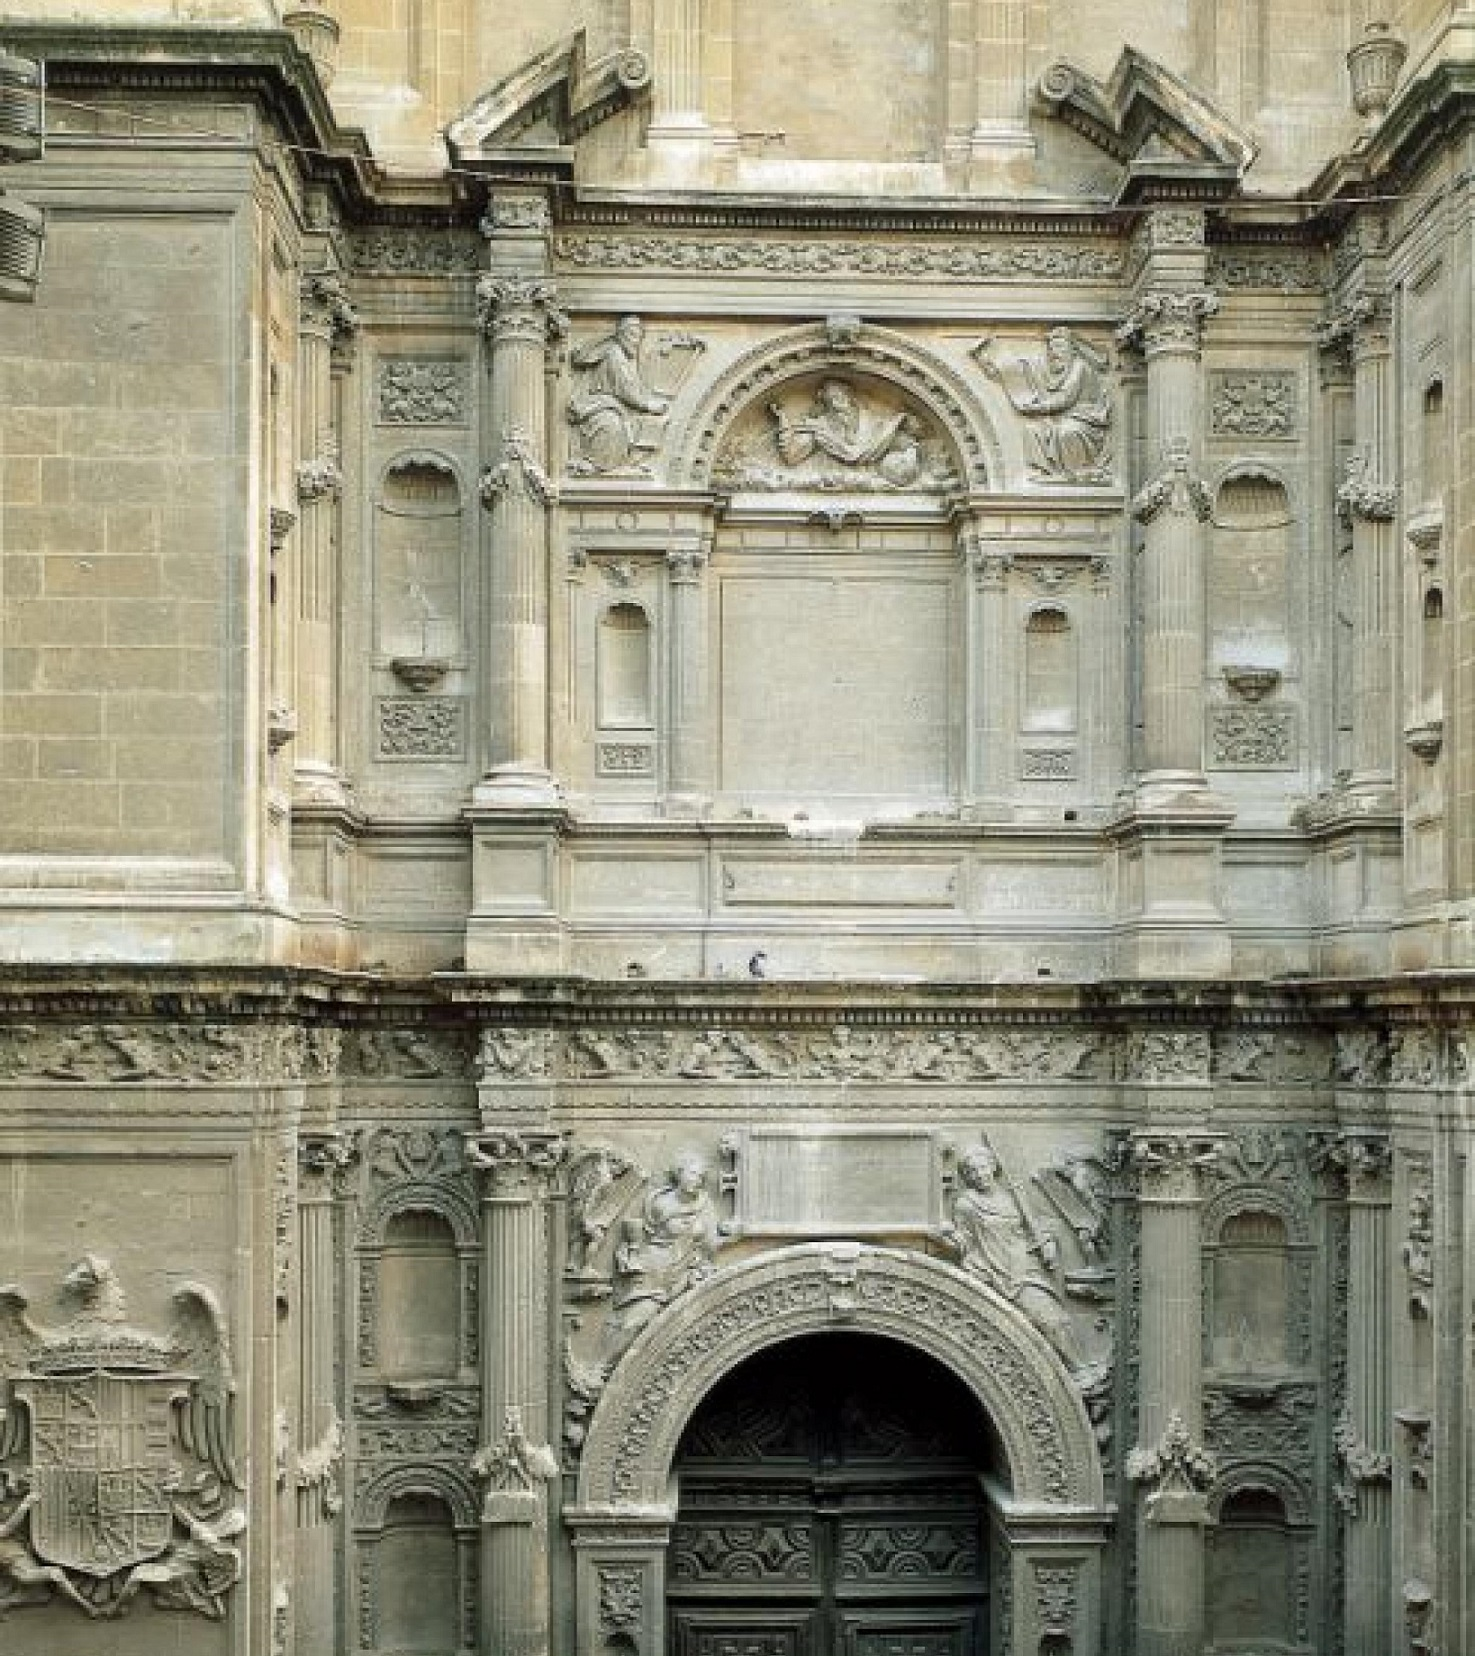arco-medio-punto: (641, 1289, 1042, 1581), (683, 349, 997, 545)
fronton-partido: (437, 9, 1287, 208)
